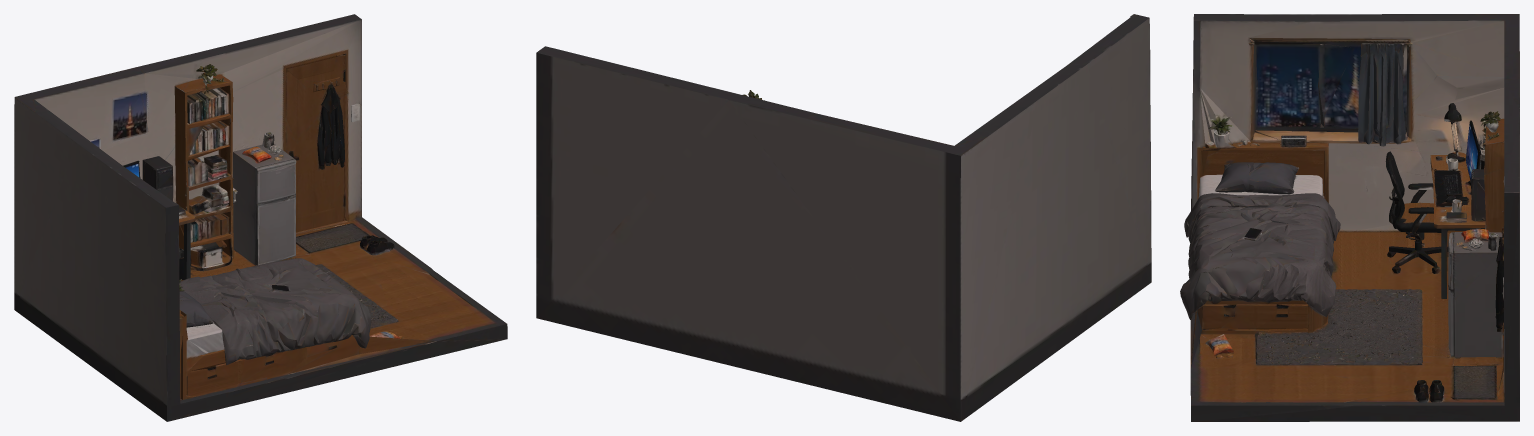
File: room.glb
3 renders of one model, left to right at view 1: azimuth 30°, elevation 25°; view 2: azimuth 150°, elevation 25°; view 3: azimuth 270°, elevation 25°, orthographic. The views are drawn at different scales.
Parts seen in each view (by area): view 1: Mesh_0; view 2: Mesh_0; view 3: Mesh_0.
Boxes of the visible parts, x1=… form: Mesh_0: x1=14, y1=14, x2=507, y2=421; Mesh_0: x1=536, y1=14, x2=1151, y2=421; Mesh_0: x1=1180, y1=14, x2=1519, y2=421.
Size of the model in its own units: 1.9 by 1.14 by 1.53.
1 material, 1 textured.
